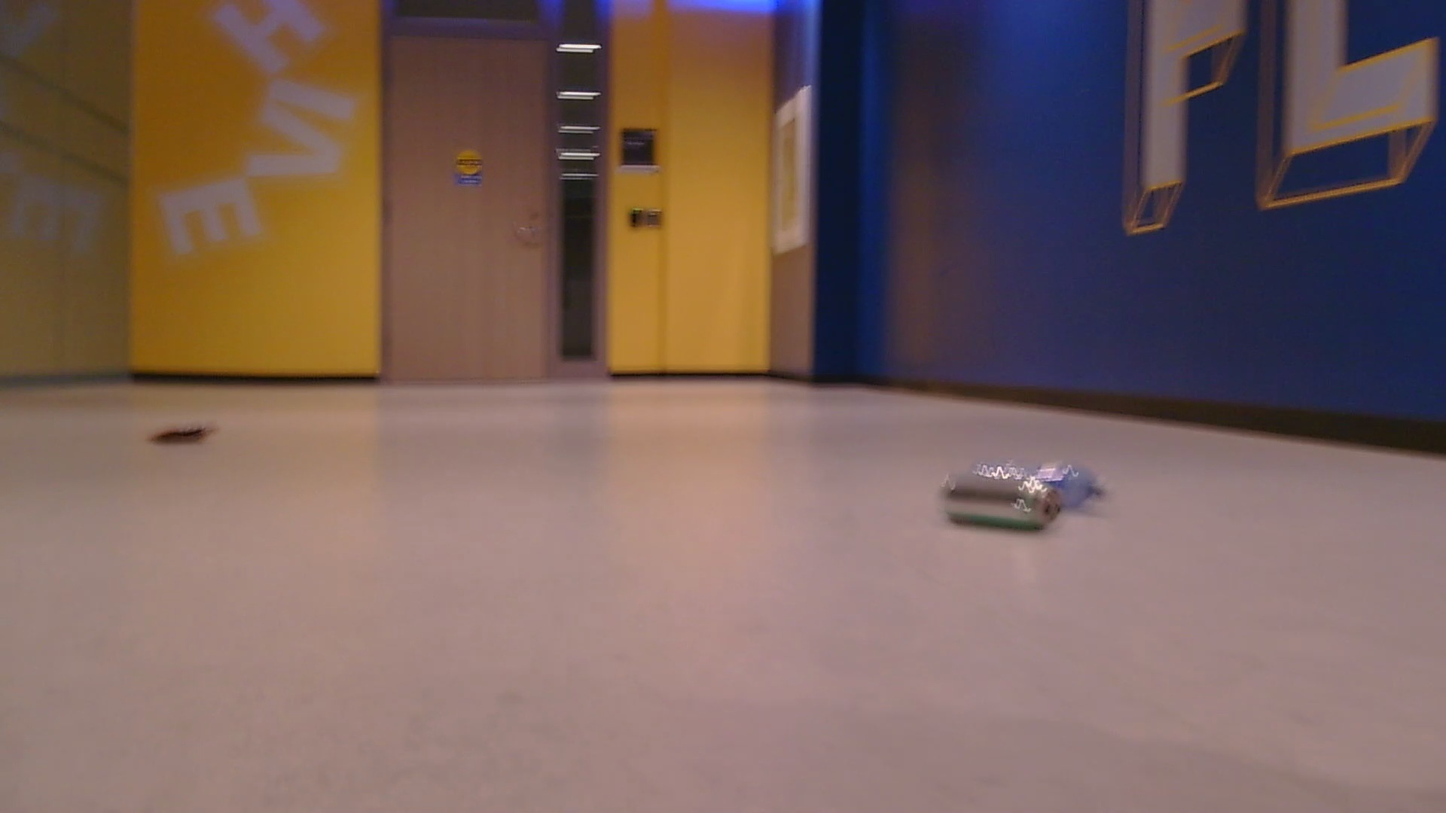can: (938, 459, 1109, 532), (144, 413, 220, 449)
